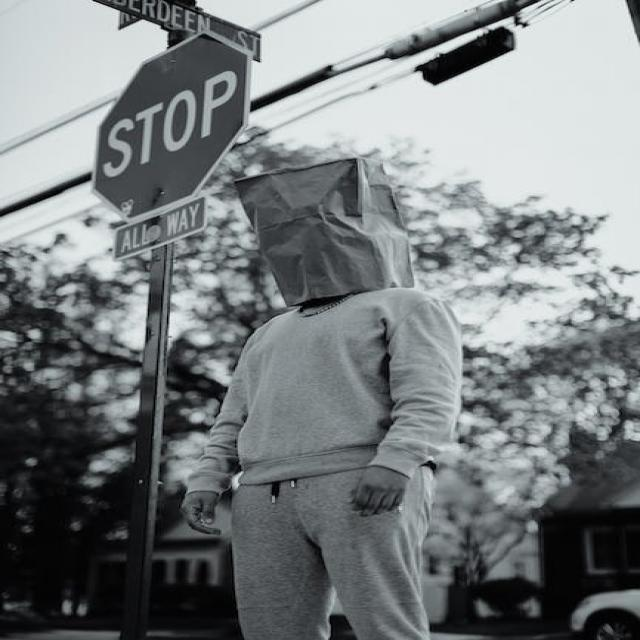stop: (91, 29, 254, 226)
